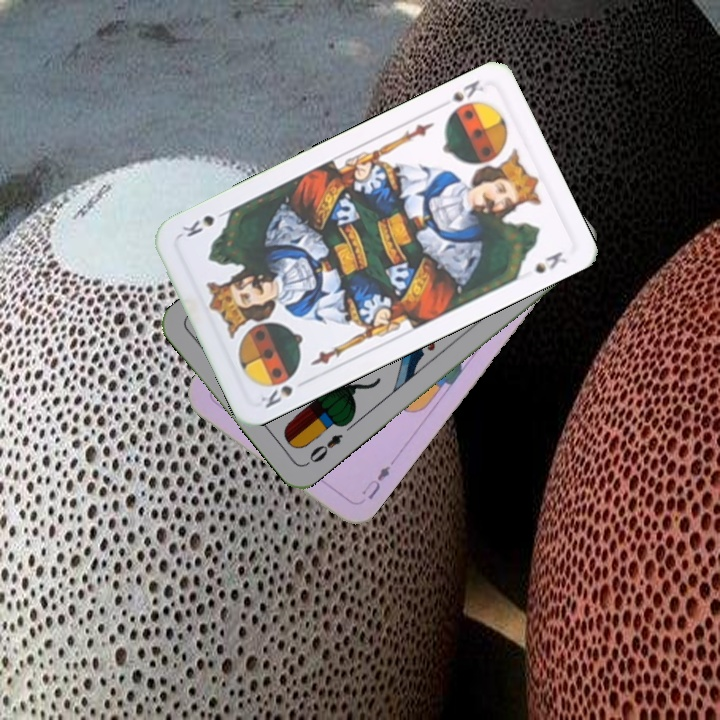EO: (302, 430, 346, 468)
EU: (358, 461, 394, 502)
SK: (434, 76, 486, 111), (255, 381, 296, 411)
